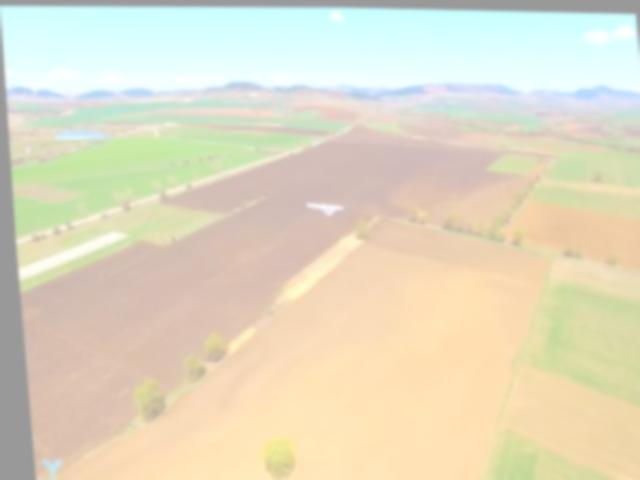uav: (298, 190, 346, 220)
